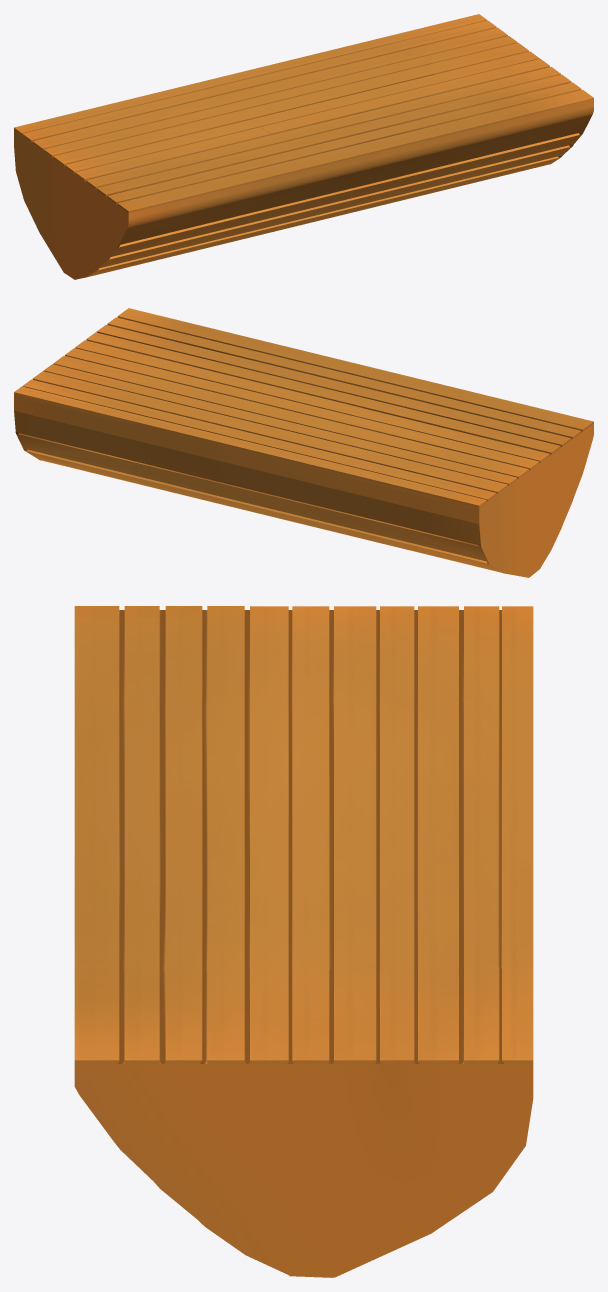
Rendered from shipBase.fbx.
The picture shows the model from 3 angles, top to bottom: view 1: azimuth 30°, elevation 25°; view 2: azimuth 150°, elevation 25°; view 3: azimuth 270°, elevation 25°; orthographic projection. The views are drawn at different scales.
Parts seen in each view (by area): view 1: Box001; view 2: Box001; view 3: Box001.
Part boxes in pixels (x1,y1,x2,y2): Box001: (14, 14, 593, 279); Box001: (14, 308, 593, 577); Box001: (74, 606, 533, 1277).
Size of the model in its own units: 2196 by 491 by 938.
1 material, 1 textured.
